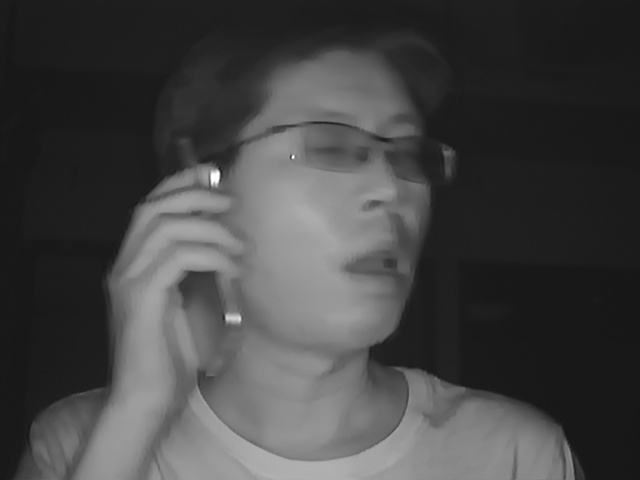hand: (99, 171, 238, 401)
